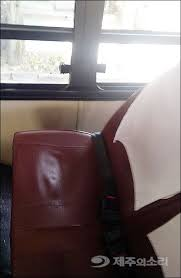seat: (17, 109, 174, 222)
